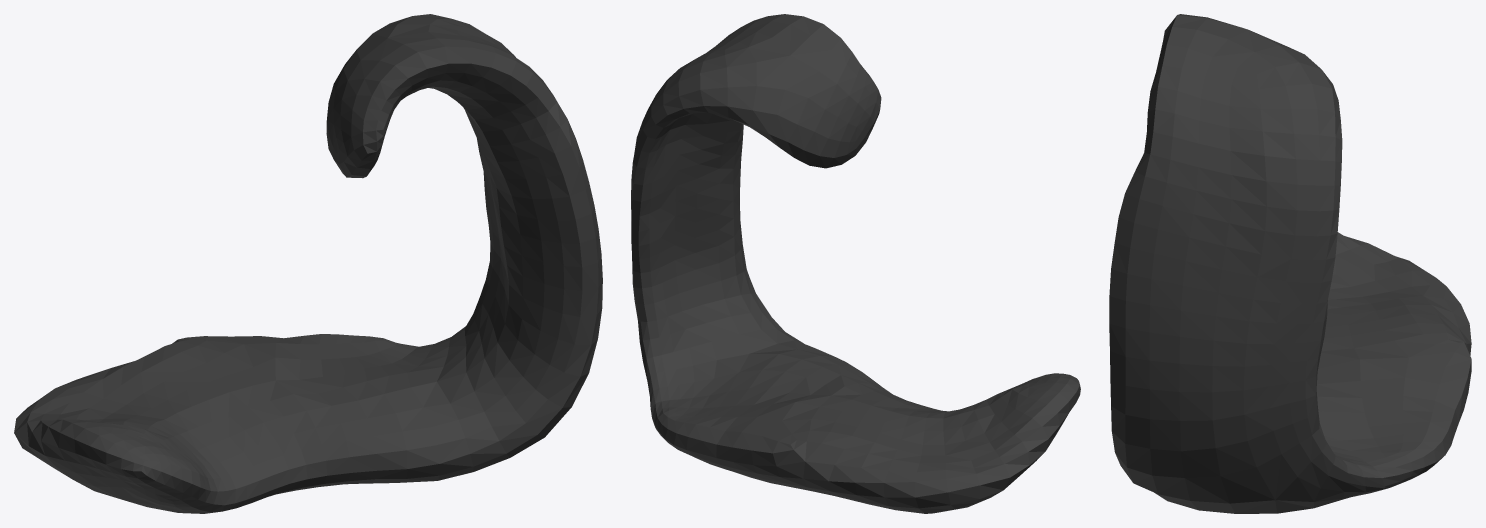
File: Spleen.glb
3 renders of one model, left to right at view 1: azimuth 30°, elevation 25°; view 2: azimuth 150°, elevation 25°; view 3: azimuth 270°, elevation 25°, orthographic. The views are drawn at different scales.
Visible parts, largest first — view 1: Spleen; view 2: Spleen; view 3: Spleen.
Boxes of the visible parts, left/top/right/bottom form: Spleen: left=14, top=14, right=602, bottom=513; Spleen: left=631, top=14, right=1080, bottom=513; Spleen: left=1109, top=14, right=1471, bottom=513.
Bounding box in the file's own units: 163 × 142 × 98.86.
Materials: 1 (1 with a texture image).
